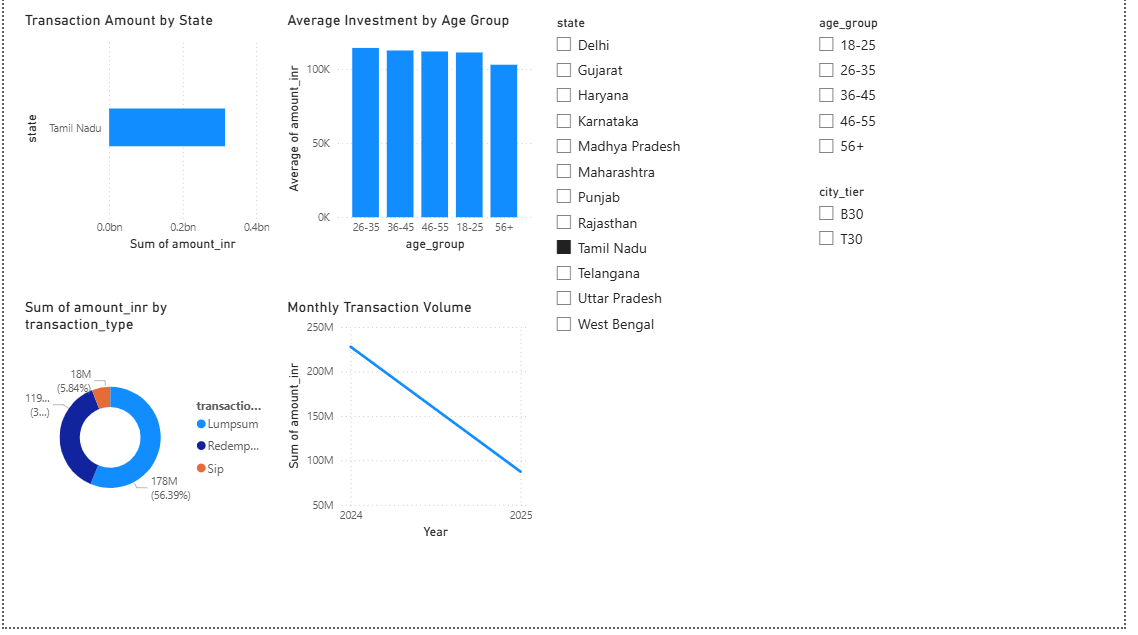

Layout of this report page (visuals, bound fields, positions):
{"tool":"powerbi","page":{"name":"Investor Analytics","canvas":[1280,720],"ordinal":2},"visuals":[{"type":"clusteredBarChart","title":"Transaction Amount by State","fields":{"Category":["investor_transactions_clean.state"],"Y":["Sum(investor_transactions_clean.amount_inr)"]},"box":[18.6,15.7,290,280],"z":0},{"type":"donutChart","fields":{"Category":["investor_transactions_clean.transaction_type"],"Y":["Sum(investor_transactions_clean.amount_inr)"]},"box":[18.6,344.3,290,280],"z":1},{"type":"clusteredColumnChart","title":"Average Investment by Age Group","fields":{"Category":["investor_transactions_clean.age_group"],"Y":["Avg(investor_transactions_clean.amount_inr)"]},"box":[319,16,290,280],"z":2},{"type":"lineChart","title":"Monthly Transaction Volume","fields":{"Category":["investor_transactions_clean.transaction_date.Variation.Date Hierarchy.Year","investor_transactions_clean.transaction_date.Variation.Date Hierarchy.Quarter","investor_transactions_clean.transaction_date.Variation.Date Hierarchy.Month","investor_transactions_clean.transaction_date.Variation.Date Hierarchy.Day"],"Y":["Sum(investor_transactions_clean.amount_inr)"]},"box":[319,344,290,280],"z":3},{"type":"slicer","fields":{"Values":["investor_transactions_clean.state"]},"box":[618.6,15.7,290,385.7],"z":4},{"type":"slicer","fields":{"Values":["investor_transactions_clean.age_group"]},"box":[918.6,15.7,290,192.9],"z":5},{"type":"slicer","fields":{"Values":["investor_transactions_clean.city_tier"]},"box":[919,209,290,193],"z":6}]}

Visuals, with their boxes in screenshot pixels (x1, y1, x2, y2), scaled from the page's 1280x720 canvas onto the 1138x635 screenshot:
"Transaction Amount by State" clusteredBarChart: 17/14/274/261
donutChart - investor_transactions_clean.transaction_type x Sum(investor_transactions_clean.amount_inr): 17/304/274/551
"Average Investment by Age Group" clusteredColumnChart: 284/14/541/261
"Monthly Transaction Volume" lineChart: 284/303/541/550
slicer - investor_transactions_clean.state: 550/14/808/354
slicer - investor_transactions_clean.age_group: 817/14/1075/184
slicer - investor_transactions_clean.city_tier: 817/184/1075/355
